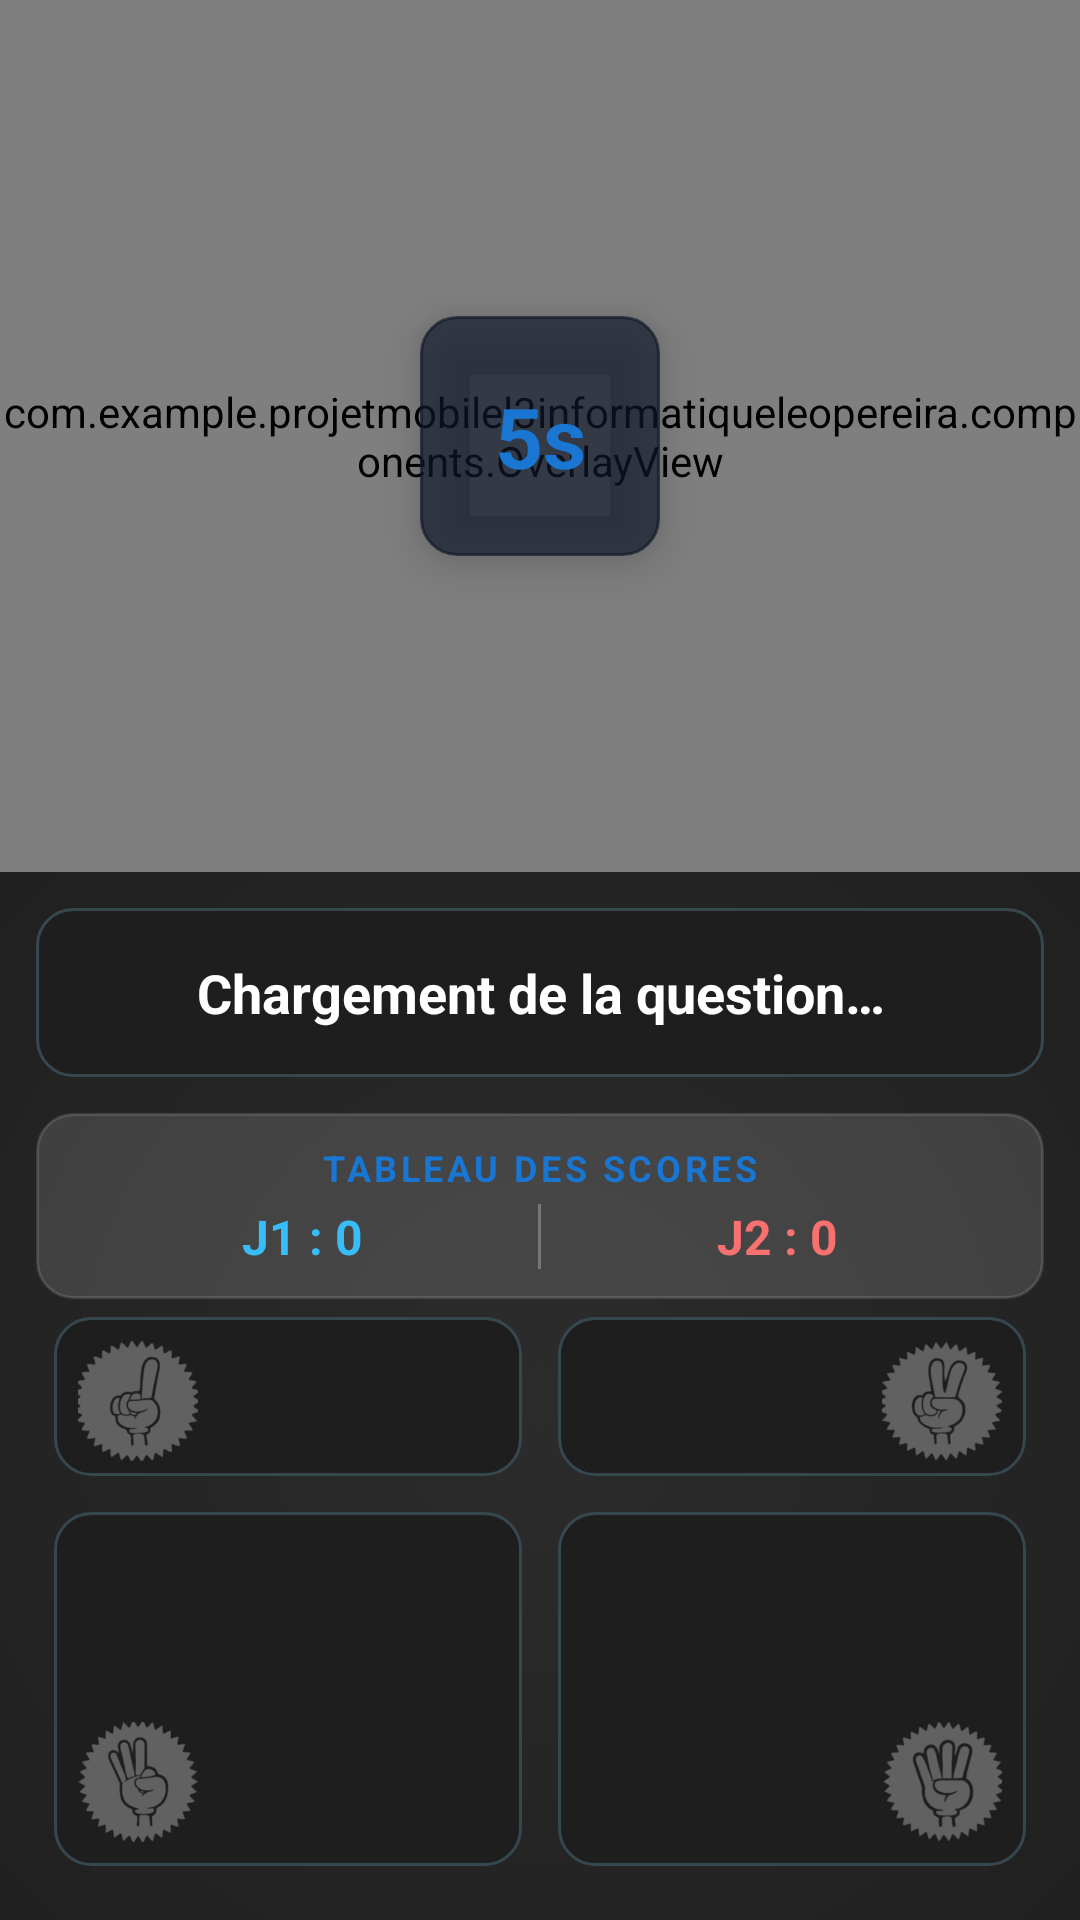

Named icons in this screenshot (1080px×1920px) and their bounding boxes, (x1, y1, x2, y2):
Aperçu de la main n°1: (78, 1341, 198, 1461)
Aperçu de la main n°2: (882, 1342, 1002, 1460)
Aperçu de la main n°3: (79, 1722, 198, 1842)
Aperçu de la main n°4: (884, 1722, 1002, 1841)
